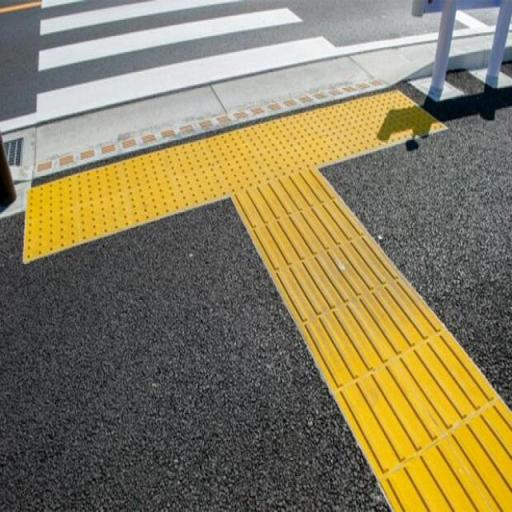dot: (280, 88, 449, 168), (24, 163, 132, 265), (116, 137, 227, 226), (199, 115, 317, 194)
line: (333, 327, 497, 477), (300, 277, 448, 390), (271, 231, 404, 328), (246, 195, 369, 274), (231, 166, 338, 230)
